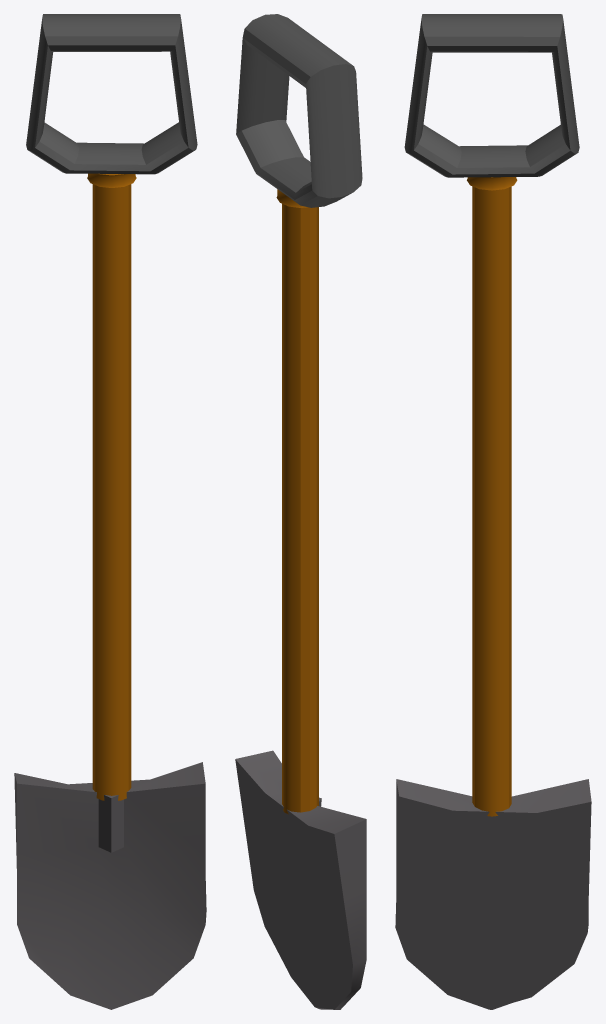
Rendered from Shovel.fbx.
3 renders of one model, left to right at view 1: azimuth 90°, elevation 25°; view 2: azimuth 210°, elevation 25°; view 3: azimuth 270°, elevation 25°, orthographic. The views are drawn at different scales.
Visible parts, largest first — view 1: Cylinder.001; view 2: Cylinder.001; view 3: Cylinder.001.
Boxes of the visible parts, left/top/right/bottom form: Cylinder.001: left=14, top=14, right=206, bottom=1009; Cylinder.001: left=235, top=14, right=366, bottom=1009; Cylinder.001: left=395, top=14, right=591, bottom=1009.
Bounding box in the file's own units: 22.96 × 425 × 75.49.
